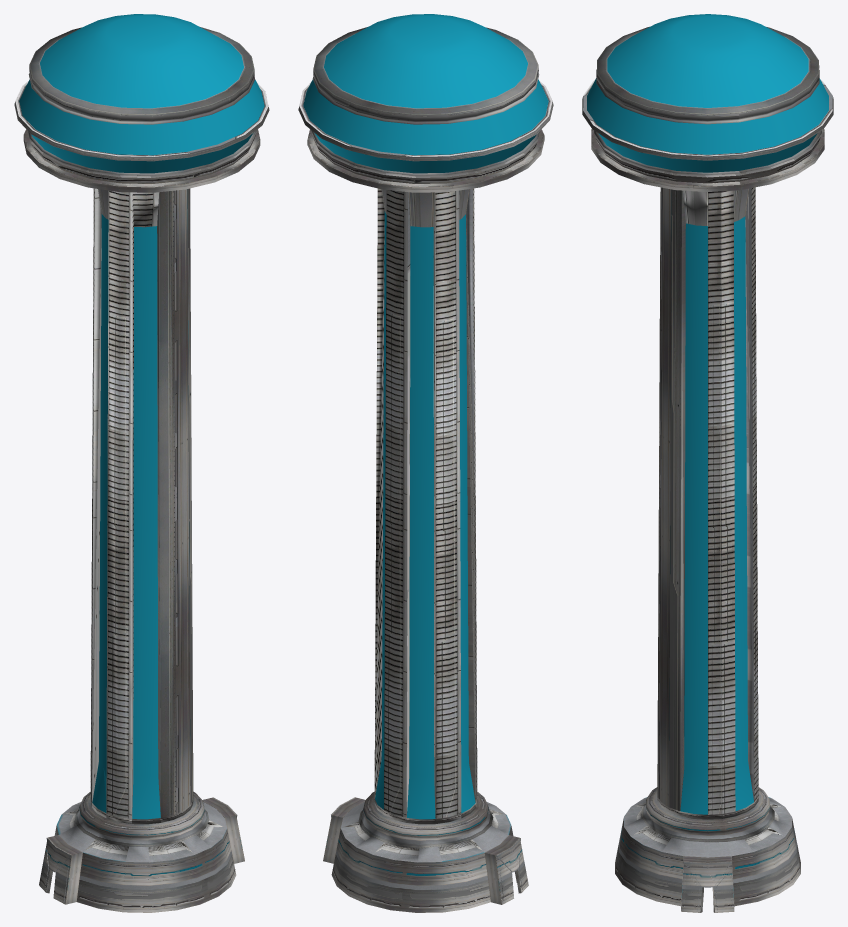
File: tower1a.dae
3 views of the same model, side by side, from view 1: azimuth 30°, elevation 25°; view 2: azimuth 150°, elevation 25°; view 3: azimuth 270°, elevation 25° (orthographic).
Visible parts, largest first — view 1: TowerFrame, TowerGlass, TowerBase, DoorWayOne, DoorWayTwo; view 2: TowerFrame, TowerGlass, TowerBase, DoorWayOne, DoorWayTwo; view 3: TowerFrame, TowerGlass, TowerBase, DoorWayTwo.
Part boxes in pixels (left/top/right/bottom): TowerFrame: left=14, top=27, right=269, bottom=824; TowerGlass: left=19, top=14, right=264, bottom=819; TowerBase: left=54, top=791, right=236, bottom=912; DoorWayOne: left=39, top=835, right=82, bottom=904; DoorWayTwo: left=202, top=797, right=244, bottom=863; TowerFrame: left=298, top=27, right=553, bottom=824; TowerGlass: left=303, top=14, right=548, bottom=819; TowerBase: left=331, top=791, right=516, bottom=912; DoorWayOne: left=484, top=835, right=528, bottom=904; DoorWayTwo: left=323, top=797, right=365, bottom=863; TowerFrame: left=582, top=26, right=833, bottom=819; TowerGlass: left=587, top=14, right=828, bottom=814; TowerBase: left=615, top=787, right=800, bottom=906; DoorWayTwo: left=681, top=856, right=734, bottom=912.
Bounding box in the file's own units: 21.44 × 21.23 × 77.98.
